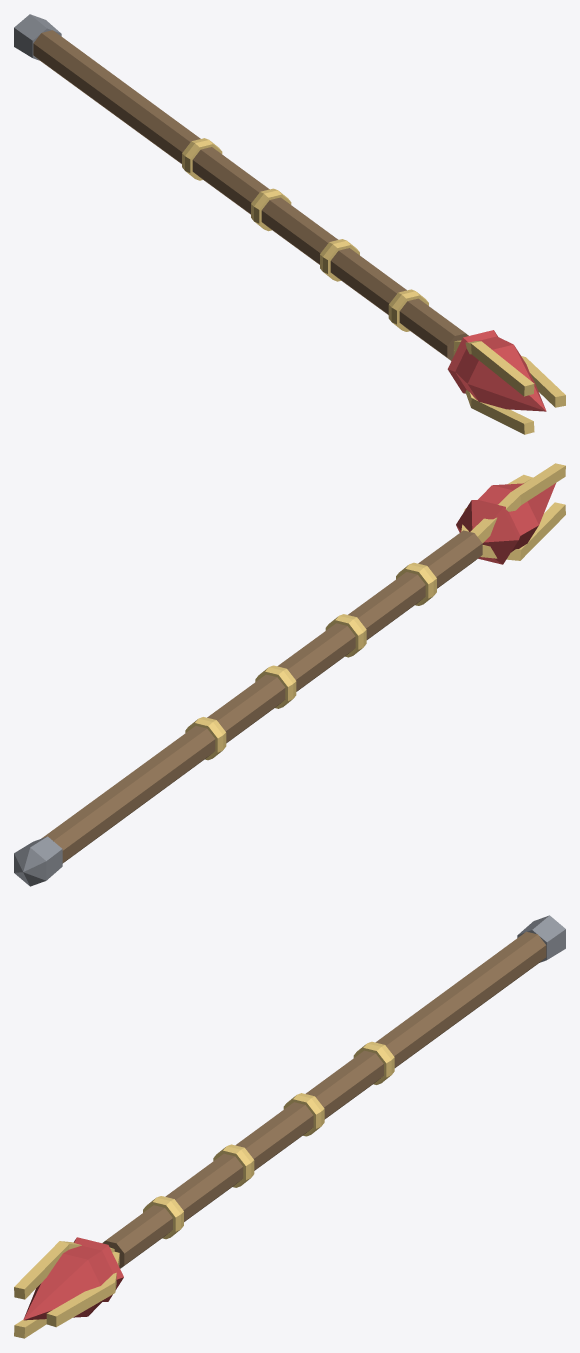
Rendered from runewood.glb.
3 renders of one model, top to bottom at view 1: azimuth 30°, elevation 25°; view 2: azimuth 150°, elevation 25°; view 3: azimuth 330°, elevation 25°, orthographic.
Parts seen in each view (by area): view 1: runewood; view 2: runewood; view 3: runewood.
Part boxes in pixels (<box>): runewood: <box>14,14,565,434</box>; runewood: <box>14,463,565,886</box>; runewood: <box>14,915,565,1338</box>.
Size of the model in its own units: 0.1101 by 0.1034 by 1.52.
